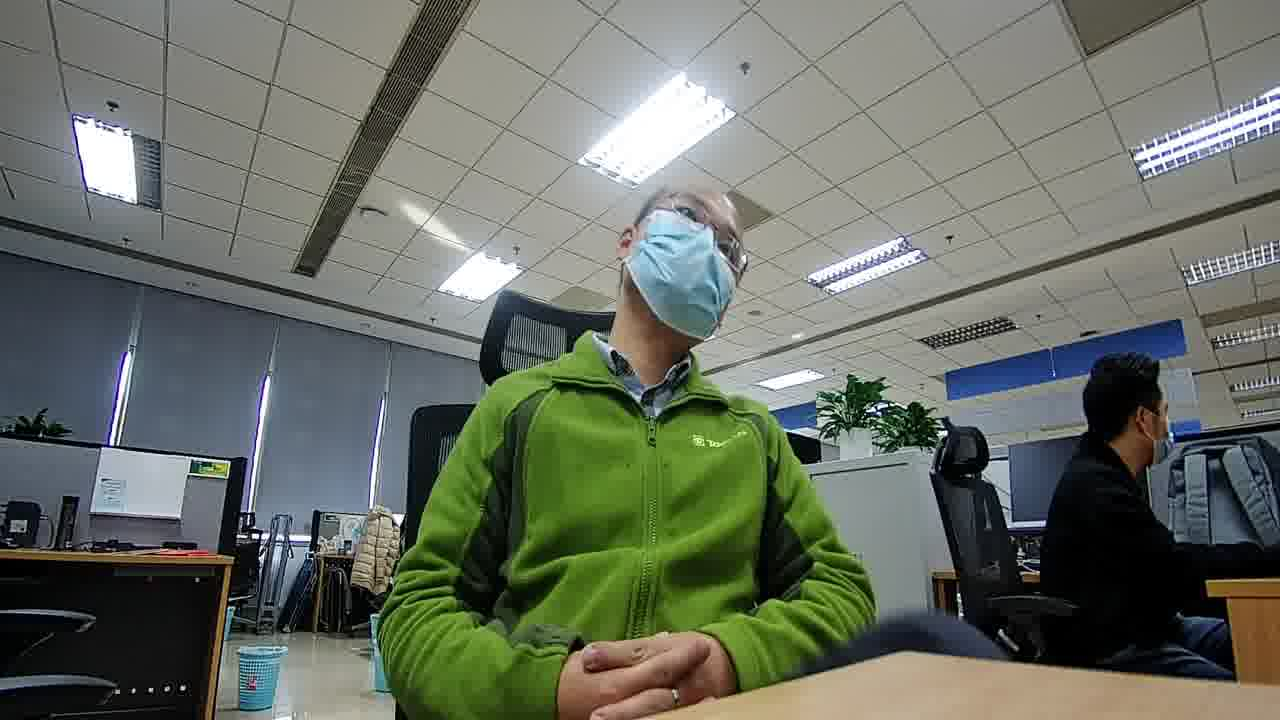face: (631, 185, 747, 342), (1147, 390, 1179, 476)
mask: (627, 212, 736, 341), (1151, 418, 1179, 466)
person: (471, 164, 796, 452), (1049, 354, 1181, 526)
